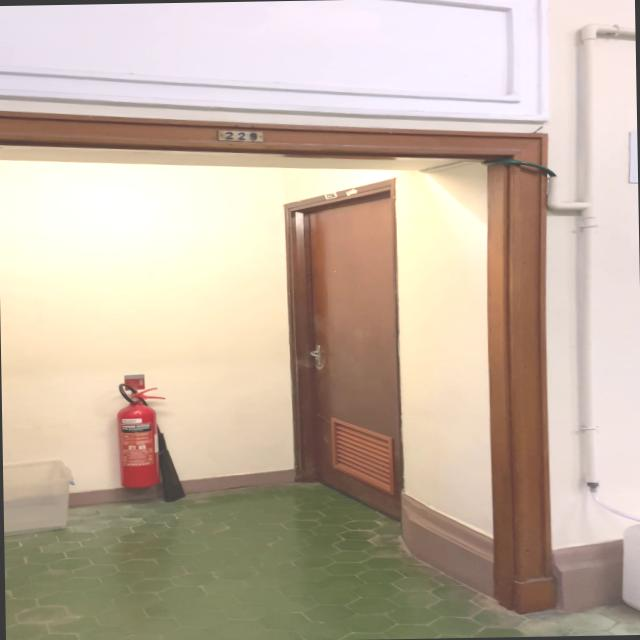room229: (214, 128, 267, 144)
